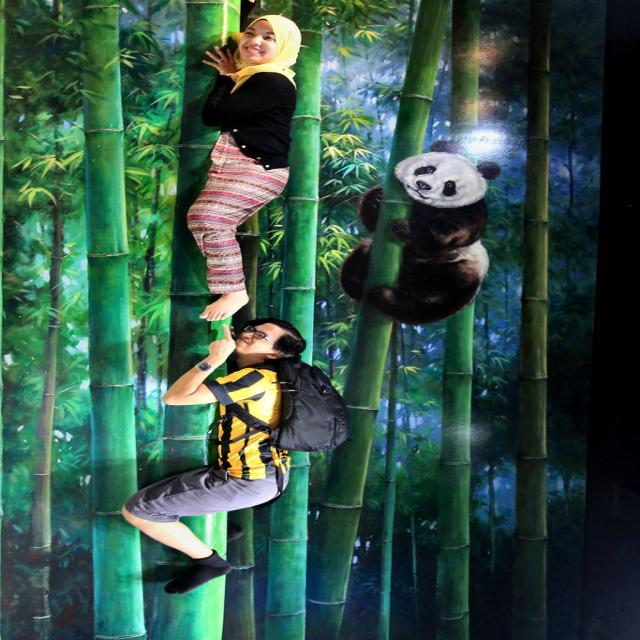panda: (334, 140, 502, 328)
